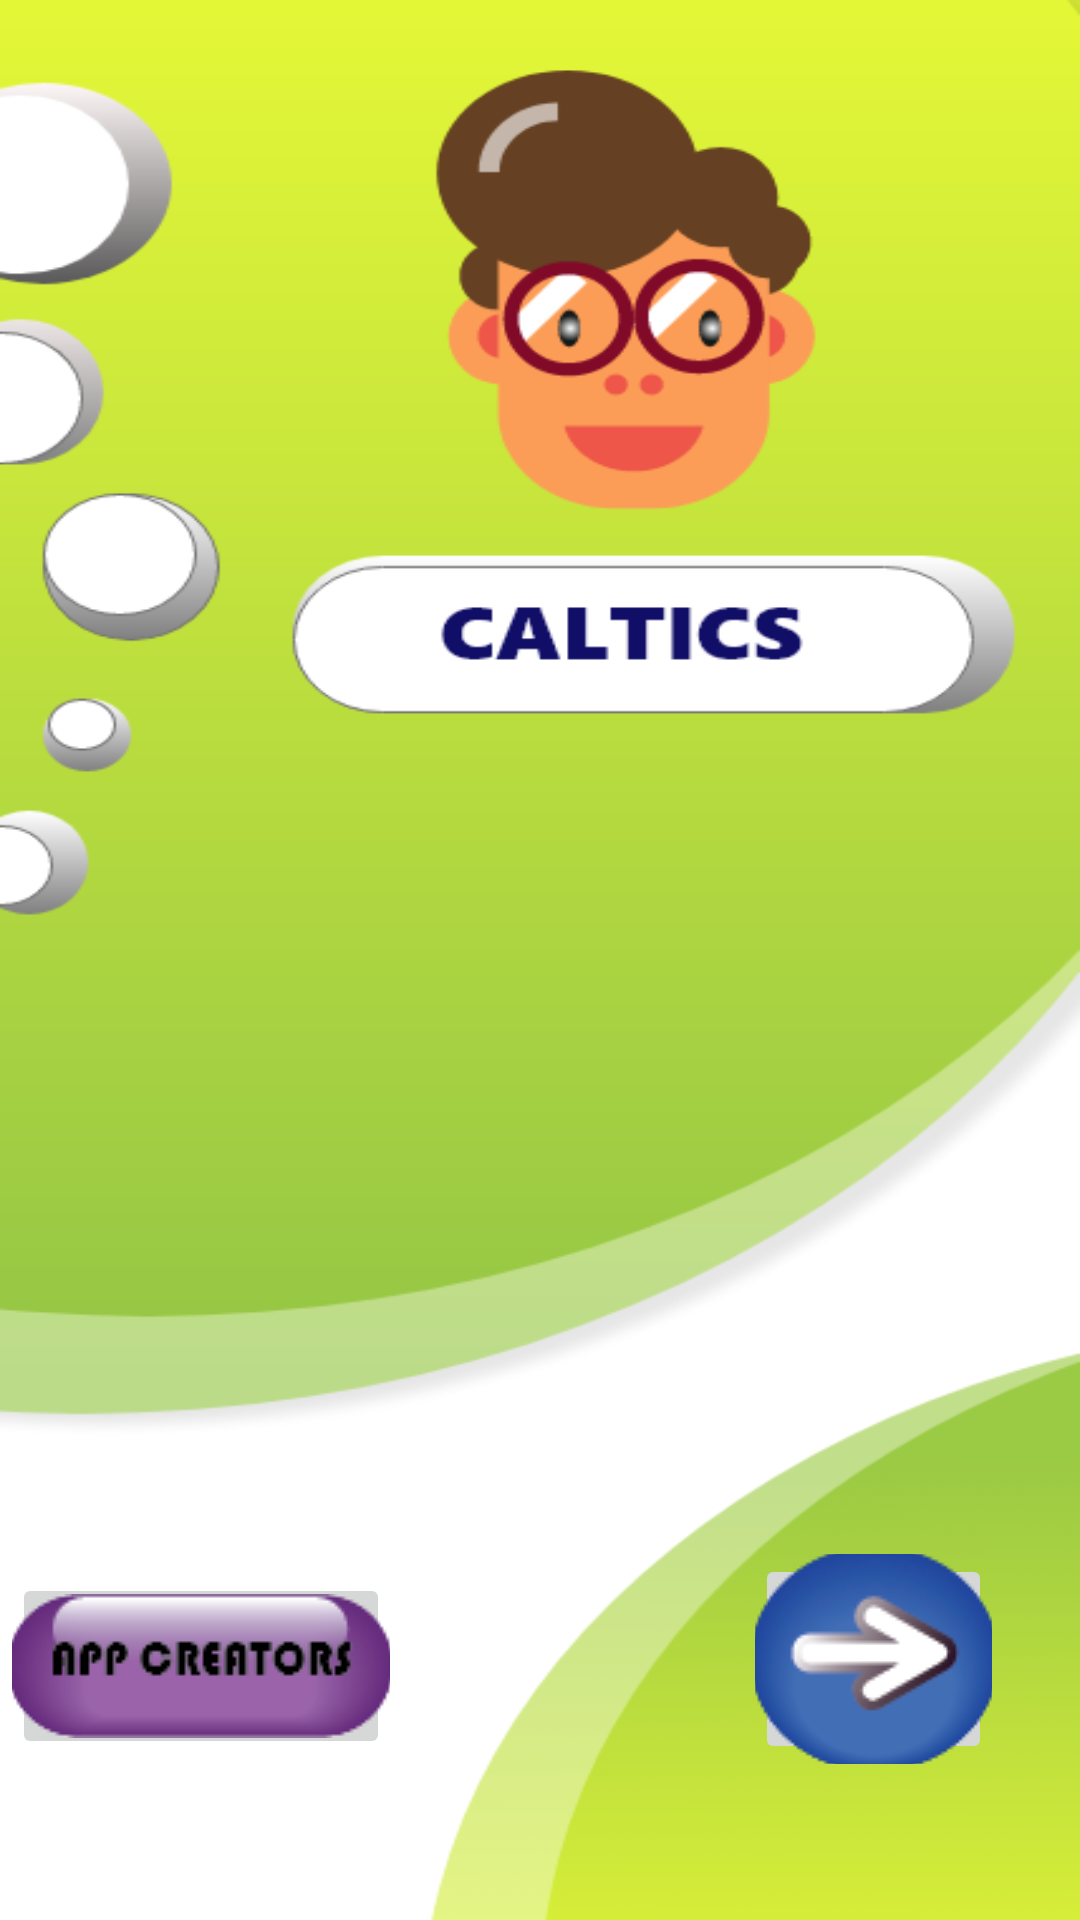

Point at icon controls on the screen. Image size 1080×1920, points as point (x, y).
start: point (873, 1659)
